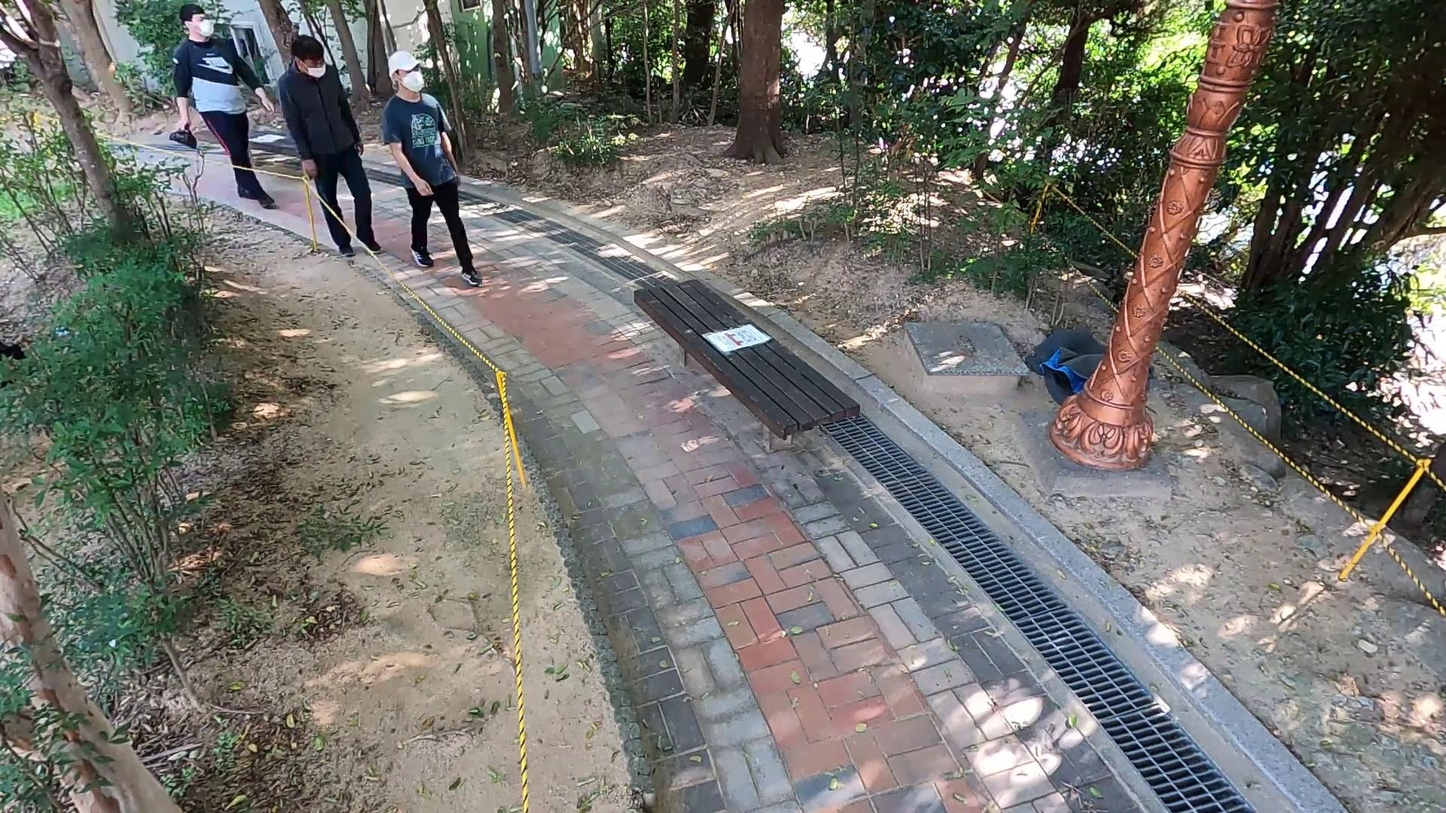person: (372, 40, 489, 292), (268, 31, 385, 259), (166, 3, 281, 213)
trash: (1017, 323, 1131, 398), (168, 123, 199, 148)
